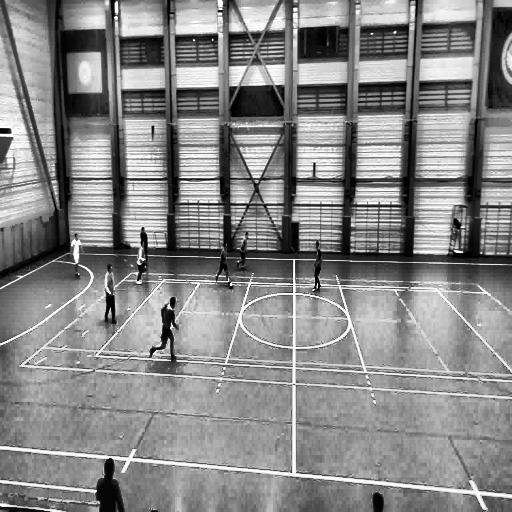ball: (229, 282, 233, 289)
player: (150, 295, 179, 360), (104, 264, 117, 324), (215, 242, 232, 286), (70, 232, 84, 278), (136, 241, 147, 286), (236, 231, 248, 270), (313, 240, 322, 291), (140, 226, 150, 263)
